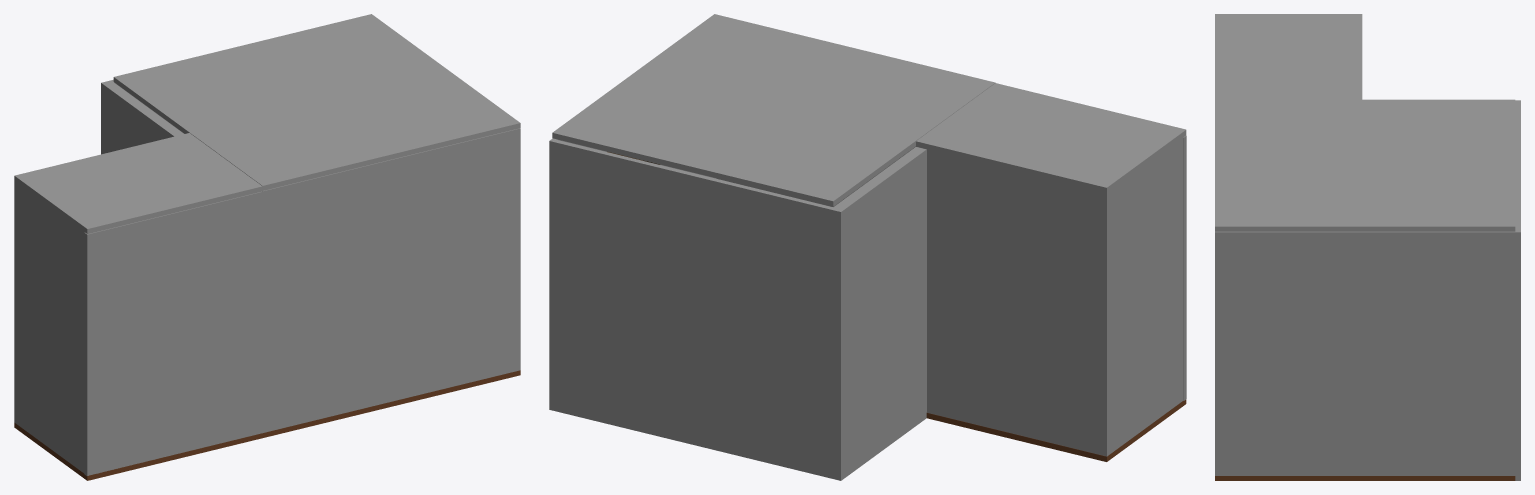
File: my_room.fbx
3 renders of one model, left to right at view 1: azimuth 30°, elevation 25°; view 2: azimuth 150°, elevation 25°; view 3: azimuth 270°, elevation 25°, orthographic. The views are drawn at different scales.
Parts seen in each view (by area): view 1: Plane.001, Plane.007, 天井, Cube.006, Plane.005, Cube.005, 床, Plane; view 2: Plane.003, Plane.004, 天井, Cube.005, Cube.006, Plane.005, Plane, Plane.007; view 3: Plane.002, 天井, Plane.005, Plane.003, 床, Plane.001.
Boxes of the visible parts, x1,y1,x2,y2 form: Plane.001: [262, 128, 520, 433]; Plane.007: [84, 191, 262, 475]; 天井: [113, 14, 520, 190]; Cube.006: [14, 181, 84, 473]; Plane.005: [14, 133, 262, 233]; Cube.005: [103, 82, 183, 153]; 床: [262, 370, 520, 437]; Plane: [14, 422, 262, 480]; Plane.003: [549, 138, 843, 480]; Plane.004: [927, 149, 1109, 456]; 天井: [552, 14, 995, 206]; Cube.005: [833, 147, 926, 478]; Cube.006: [1101, 137, 1183, 456]; Plane.005: [916, 83, 1186, 193]; Plane: [926, 399, 1186, 461]; Plane.007: [1183, 135, 1186, 400]; Plane.002: [1220, 231, 1515, 475]; 天井: [1215, 99, 1515, 231]; Plane.005: [1215, 14, 1362, 99]; Plane.003: [1515, 100, 1520, 480]; 床: [1215, 476, 1515, 480]; Plane.001: [1215, 231, 1220, 475].
Bounding box in the file's own units: 901 × 501 × 546.
